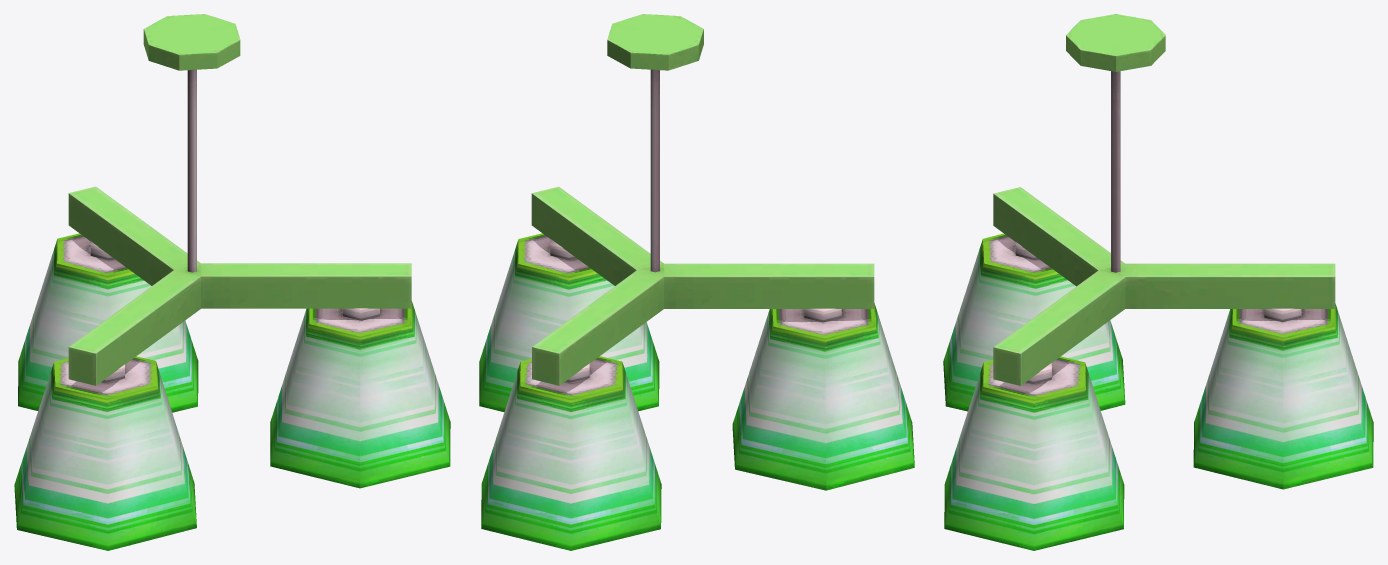
File: furni_0200602_01.FBX
3 renders of one model, left to right at view 1: azimuth 30°, elevation 25°; view 2: azimuth 150°, elevation 25°; view 3: azimuth 270°, elevation 25°, orthographic.
Visible parts, largest first — view 1: furni_0200602_01; view 2: furni_0200602_01; view 3: furni_0200602_01.
Part boxes in pixels (x1,y1,x2,y2): furni_0200602_01: [14, 14, 450, 550]; furni_0200602_01: [479, 14, 914, 550]; furni_0200602_01: [943, 14, 1373, 550].
Size of the model in its own units: 77.07 by 69.74 by 66.26.
Materials: 1 (1 with a texture image).
